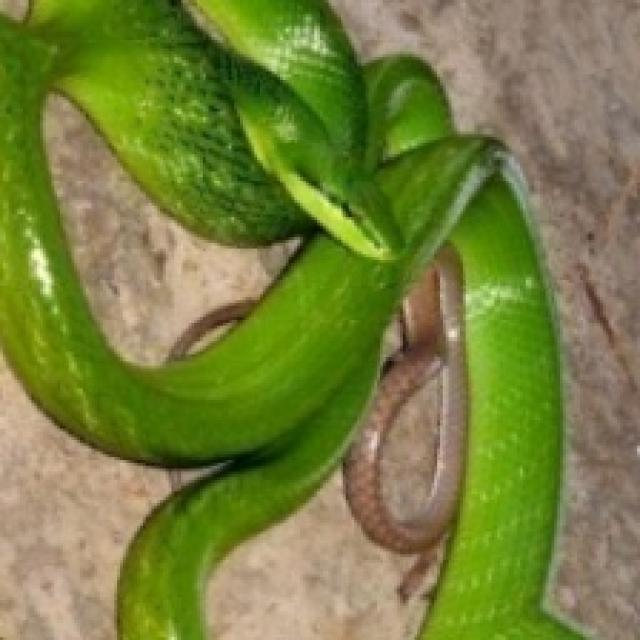red-tailed green ratsnake: (1, 0, 574, 640)
